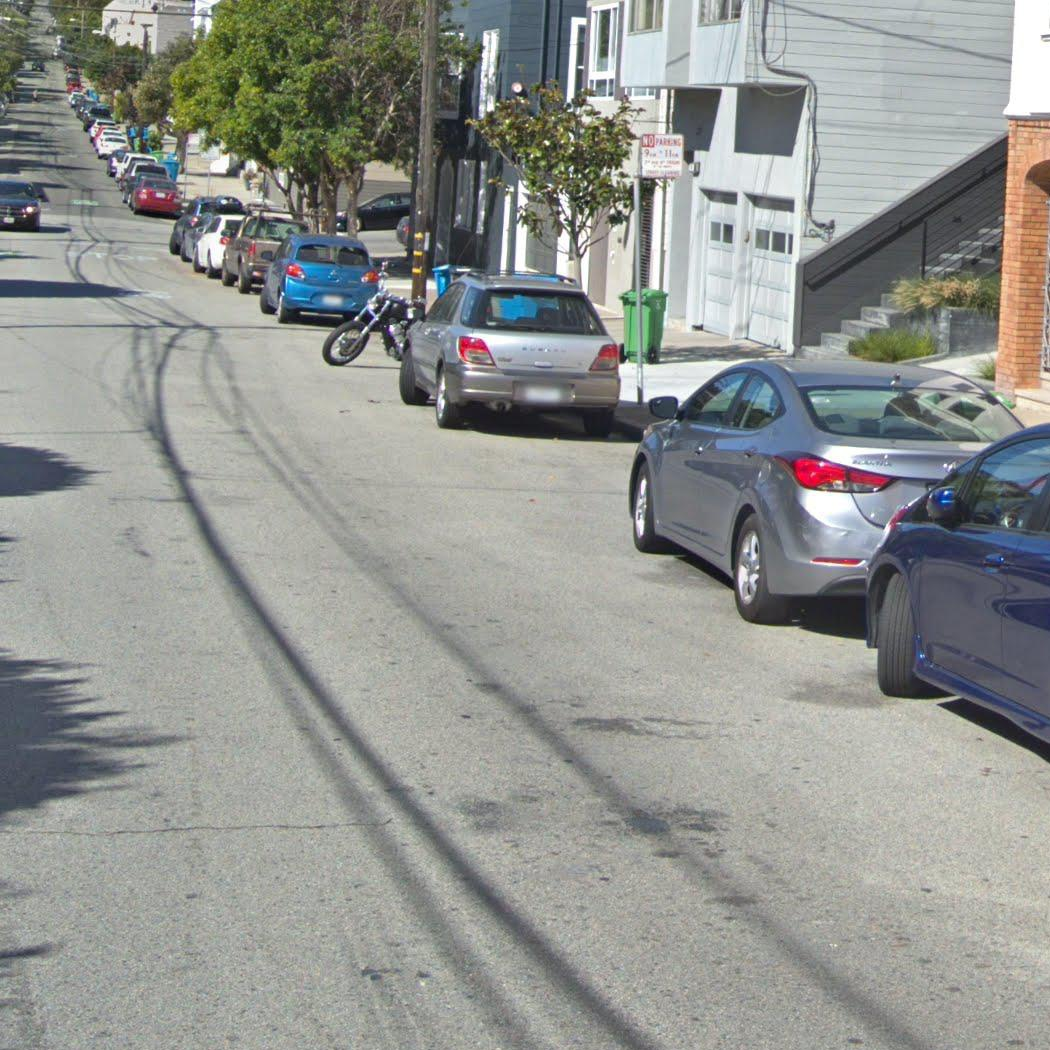No Parking: (639, 131, 685, 180)
